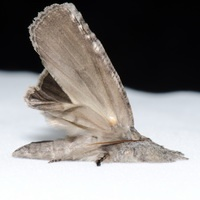insect: (12, 3, 186, 165)
